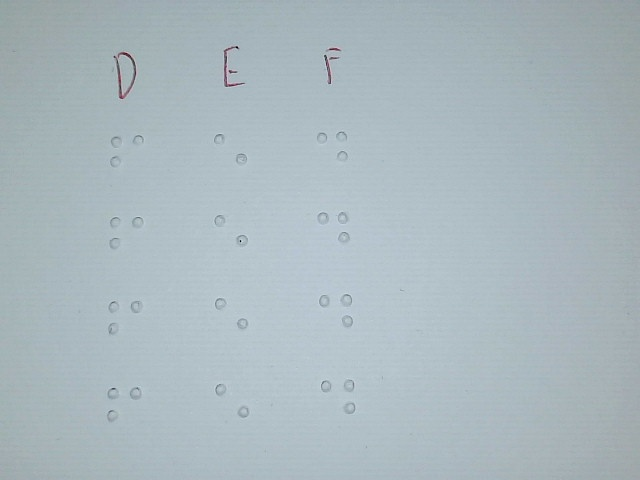D: (318, 281, 355, 342), (320, 367, 357, 427), (315, 121, 349, 180), (316, 199, 350, 258)
E: (212, 122, 249, 184), (213, 202, 250, 264), (213, 285, 250, 347), (214, 372, 251, 434)
F: (109, 124, 146, 186), (107, 205, 144, 267), (107, 290, 144, 352), (106, 376, 143, 438)
